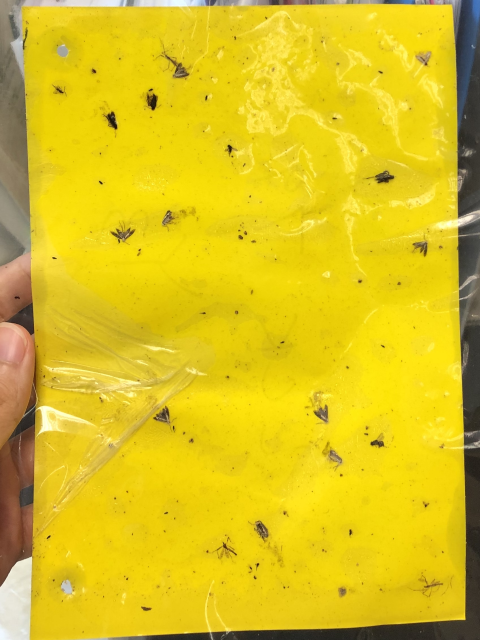DBM: (150, 404, 181, 433), (165, 58, 194, 82), (109, 219, 135, 245), (249, 519, 271, 543), (312, 401, 333, 424), (158, 208, 178, 232), (413, 232, 432, 257), (328, 446, 343, 468)
